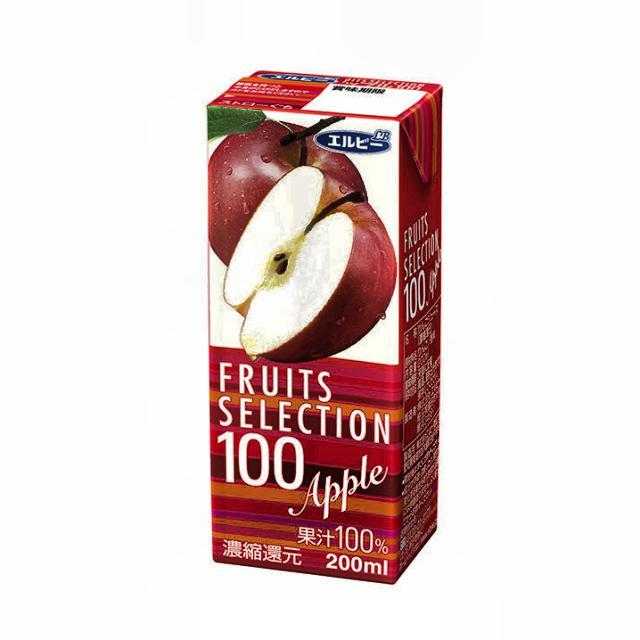cardboard: (206, 68, 443, 584)
